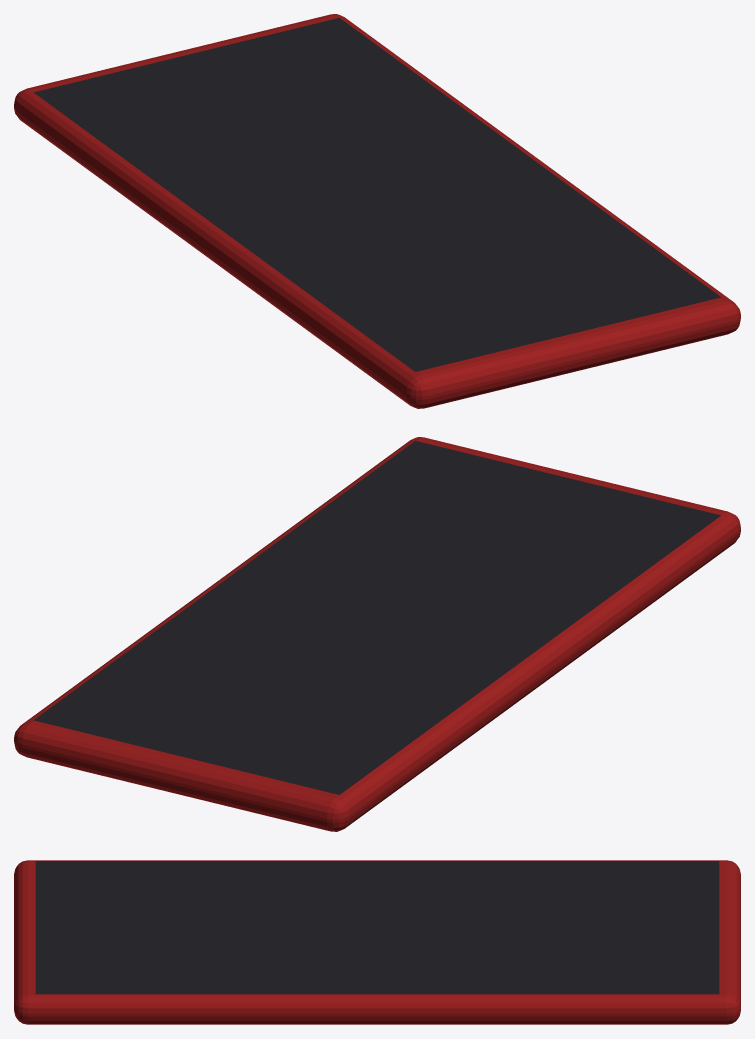
File: Phone_724.glb
3 views of the same model, one above another, from view 1: azimuth 30°, elevation 25°; view 2: azimuth 150°, elevation 25°; view 3: azimuth 270°, elevation 25° (orthographic). The views are drawn at different scales.
Parts seen in each view (by area): view 1: Phone_Screen, Phone_Body; view 2: Phone_Screen, Phone_Body; view 3: Phone_Screen, Phone_Body.
Boxes of the visible parts, <box> form: Phone_Screen: <box>34,18,720,371</box>; Phone_Body: <box>14,14,740,408</box>; Phone_Screen: <box>34,441,720,794</box>; Phone_Body: <box>14,437,740,831</box>; Phone_Screen: <box>35,861,719,994</box>; Phone_Body: <box>14,860,740,1024</box>.
Bounding box in the file's own units: 0.0778 × 0.0073 × 0.1646.
